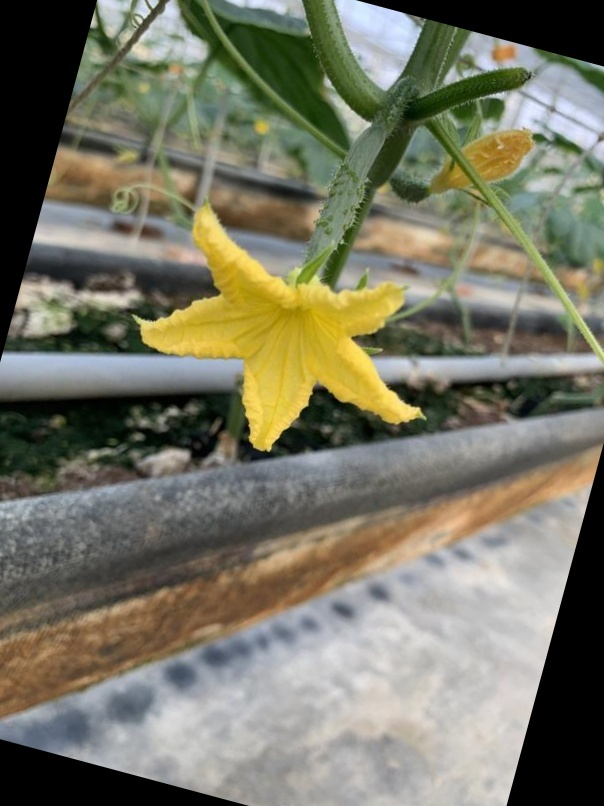flowering: (137, 104, 477, 450)
mature: (136, 102, 478, 453)
